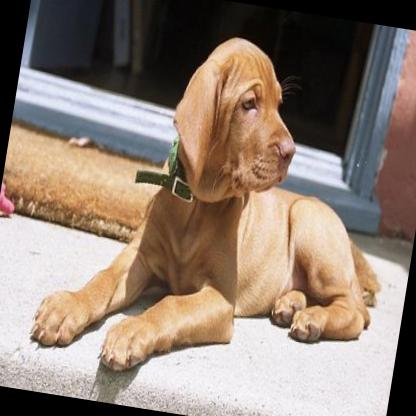vizsla: (23, 9, 415, 408)
